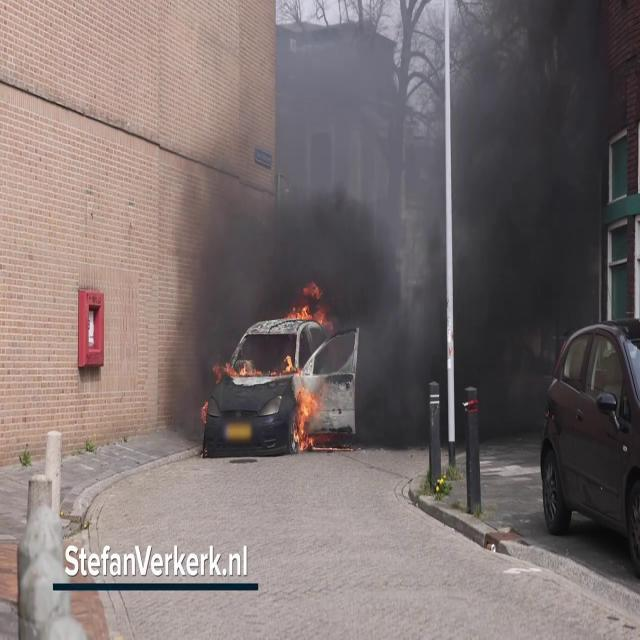Fire: (288, 378, 324, 450), (285, 290, 330, 322)
Smoke: (347, 2, 566, 437), (152, 116, 388, 384)
